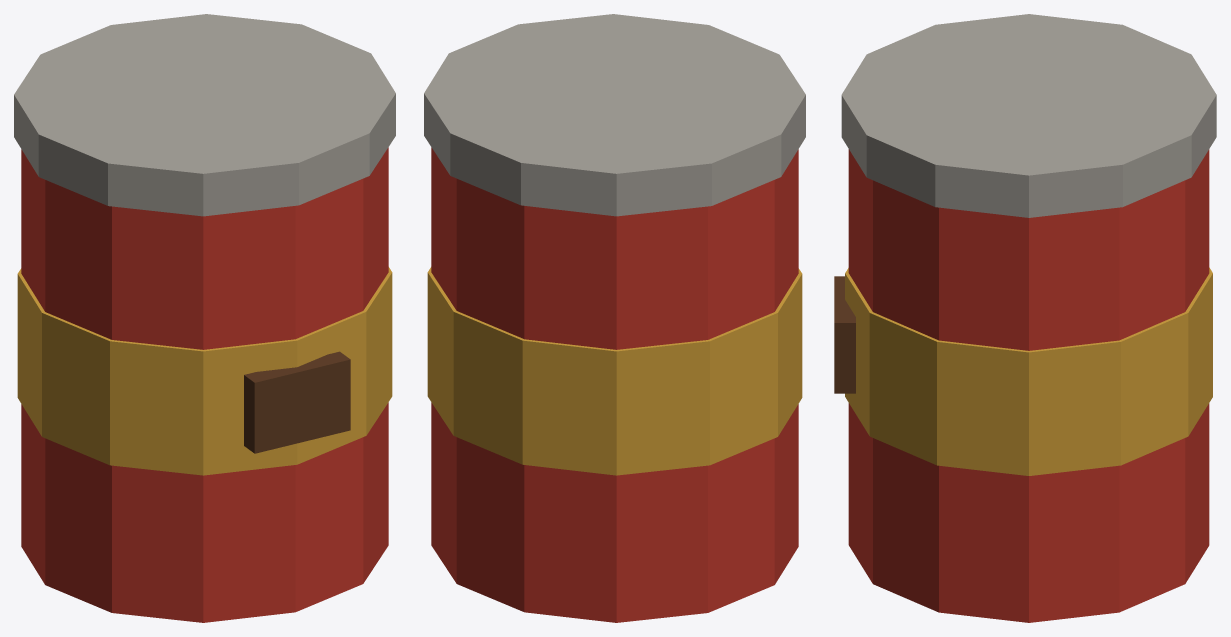
File: CoffeeTin.fbx
3 renders of one model, left to right at view 1: azimuth 30°, elevation 25°; view 2: azimuth 150°, elevation 25°; view 3: azimuth 270°, elevation 25°, orthographic.
Parts seen in each view (by area): view 1: CoffeeTin; view 2: CoffeeTin; view 3: CoffeeTin.
Part boxes in pixels (x1,y1,x2,y2): CoffeeTin: (14,14,395,622); CoffeeTin: (424,14,805,622); CoffeeTin: (834,14,1216,622).
Size of the model in its own units: 1 by 1.3 by 1.
